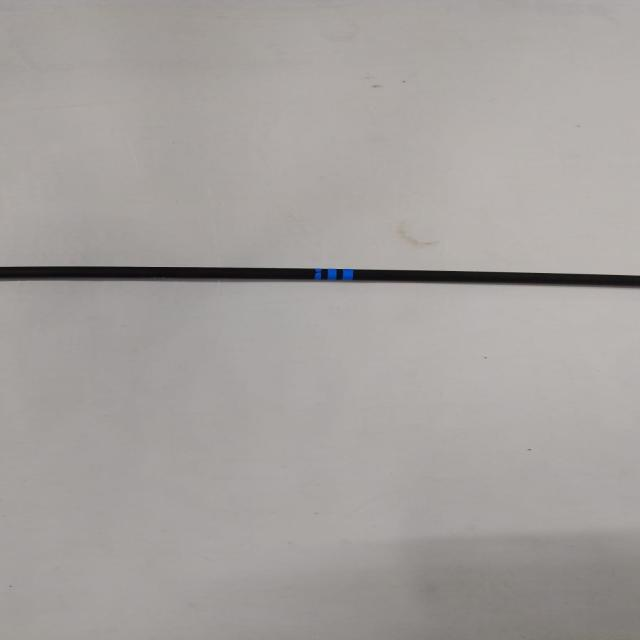blue: (312, 268, 354, 280)
